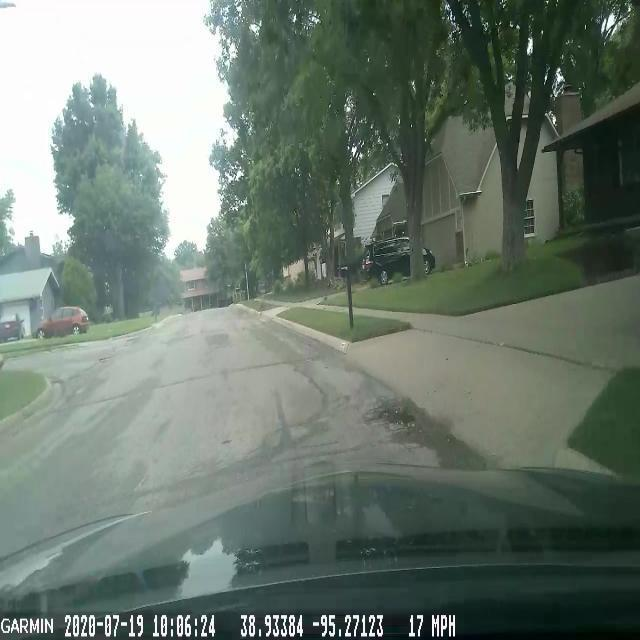pothole: (342, 384, 498, 458)
